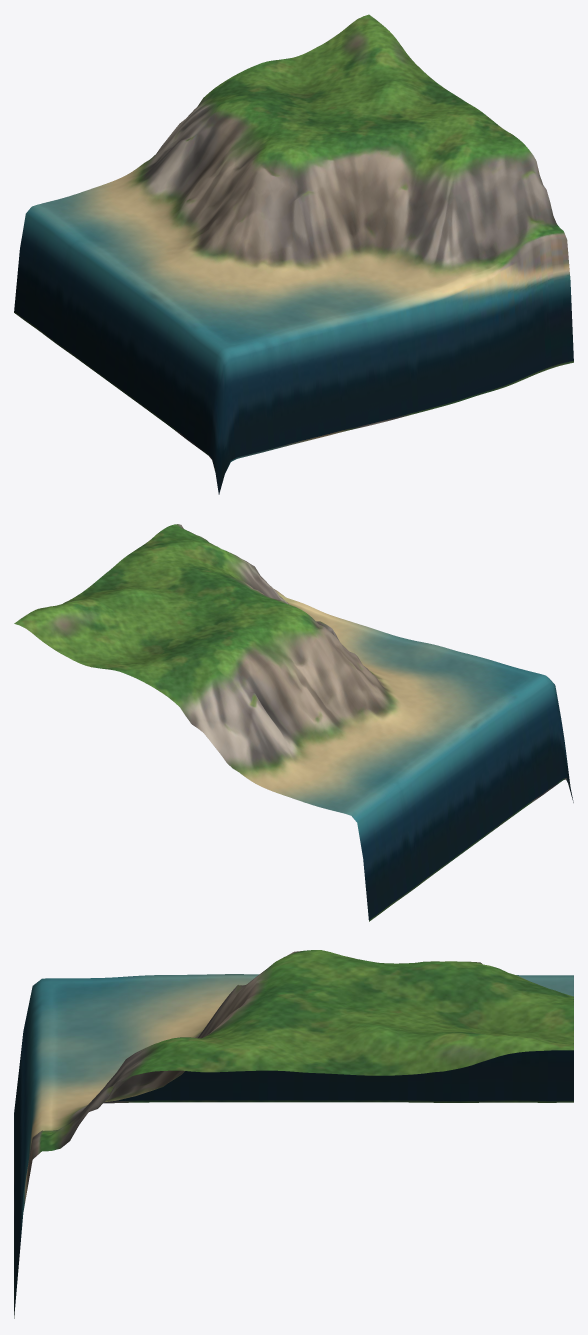
The picture shows the model from 3 angles, top to bottom: view 1: azimuth 30°, elevation 25°; view 2: azimuth 150°, elevation 25°; view 3: azimuth 270°, elevation 25°; orthographic projection. The views are drawn at different scales.
Parts seen in each view (by area): view 1: t000_000; view 2: t000_000; view 3: t000_000.
Boxes of the visible parts, x1,y1,x2,y2 form: t000_000: [14, 14, 573, 494]; t000_000: [14, 524, 573, 921]; t000_000: [14, 950, 573, 1318].
Bounding box in the file's own units: 64 × 42.33 × 64.
Materials: 1 (1 with a texture image).
